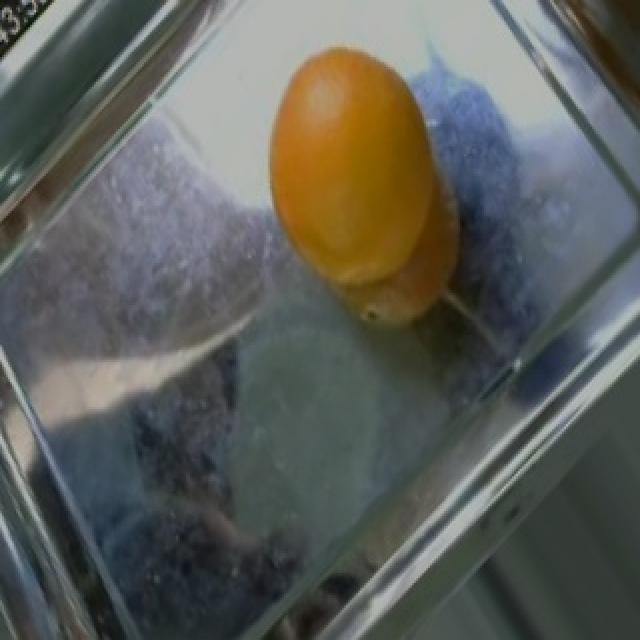Fruit: (248, 25, 472, 352)
